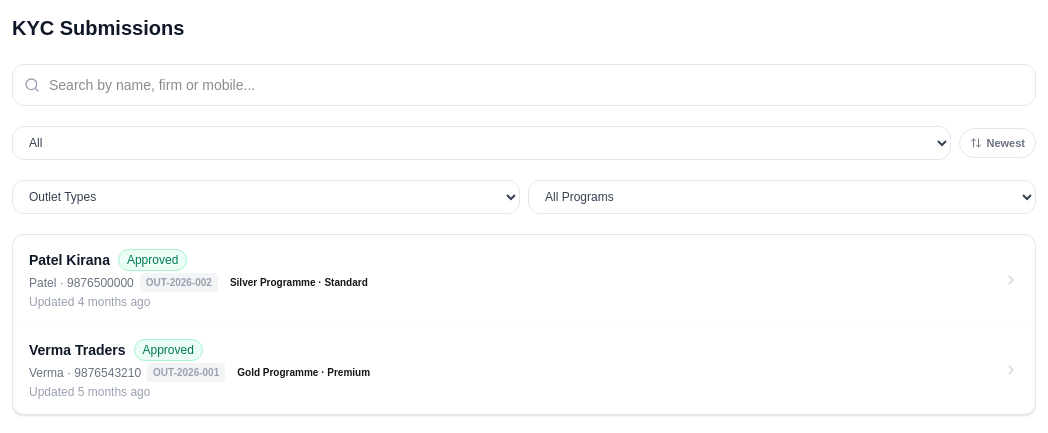
it: KYC list — program surface + Outlet-Type/Program filters › the Program filter narrows the visible rows
Expected: the text "Patel Kirana" is shown, [29,250,110,270]
Select "Gold Programme" in the dropdown with test id "kyc-program-filter". click: [782, 197]
box: [528,180,1036,214]
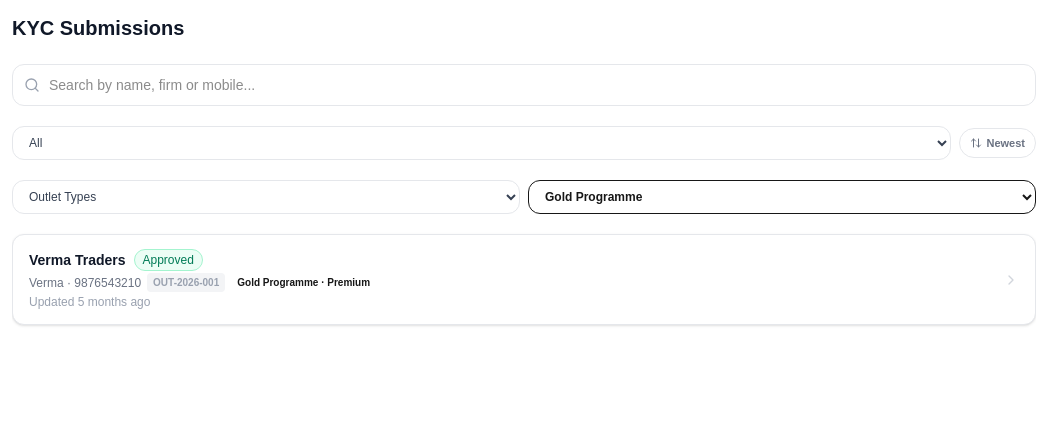
Expected: the text "Verma Traders" is shown, [29,250,126,270]
Expected: the link "Patel Kirana" is gone
